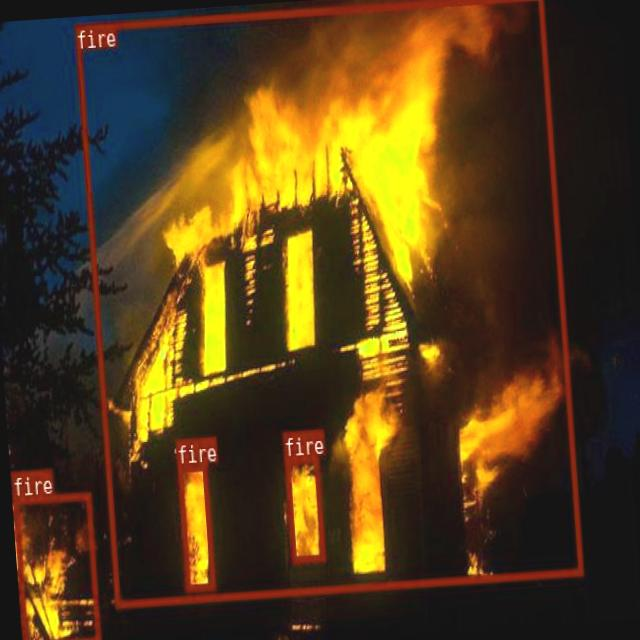fire: (73, 0, 582, 607), (13, 491, 100, 640), (177, 461, 214, 590), (284, 453, 324, 561)
